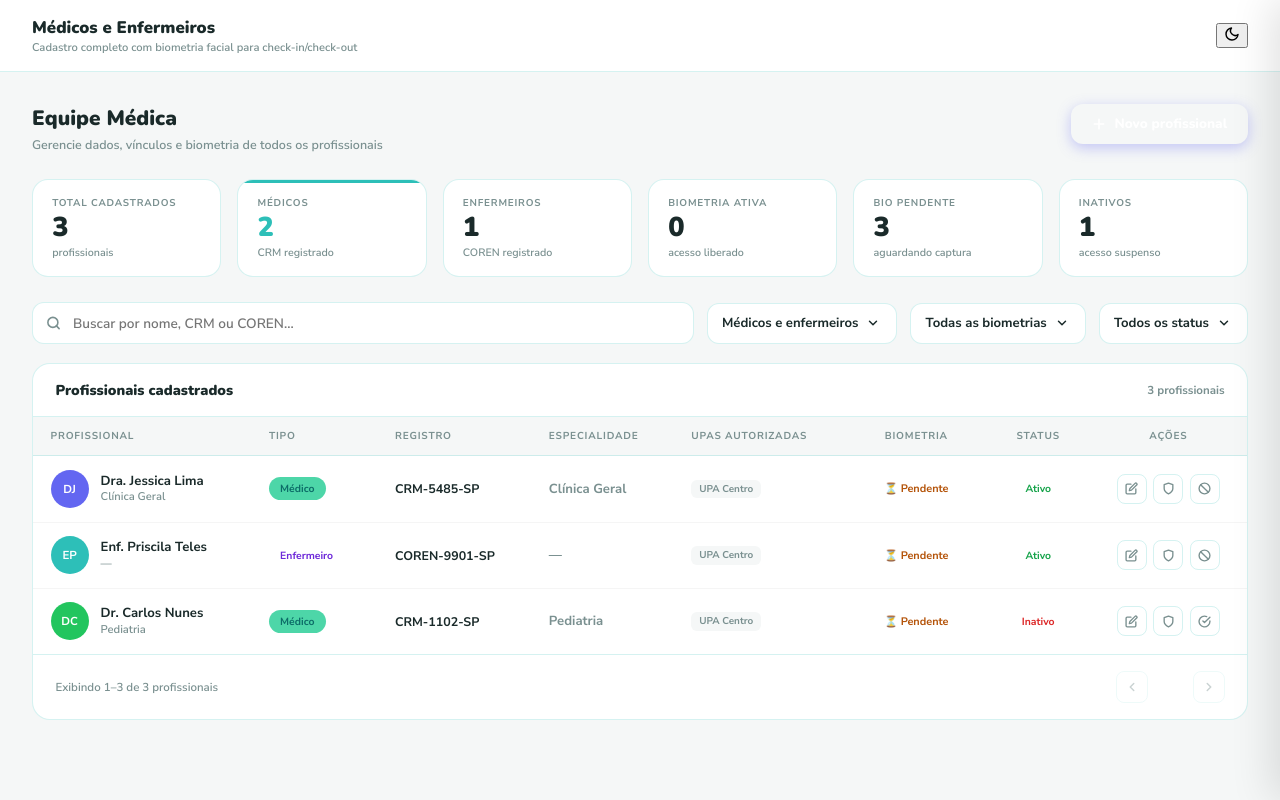
Test case: <AdminMedicos /> › filtro por tipo funciona
The image size is (1280, 800).
Expected: the text "Dra. Jessica Lima" is shown, x1=101 y1=474 x2=204 y2=489
# Click "Médicos e enfermeiros" dropdown e selecionar "Somente enfermeiros"
Click the button "Médicos e enfermeiros" at (802, 323), box x1=706 y1=303 x2=897 y2=344
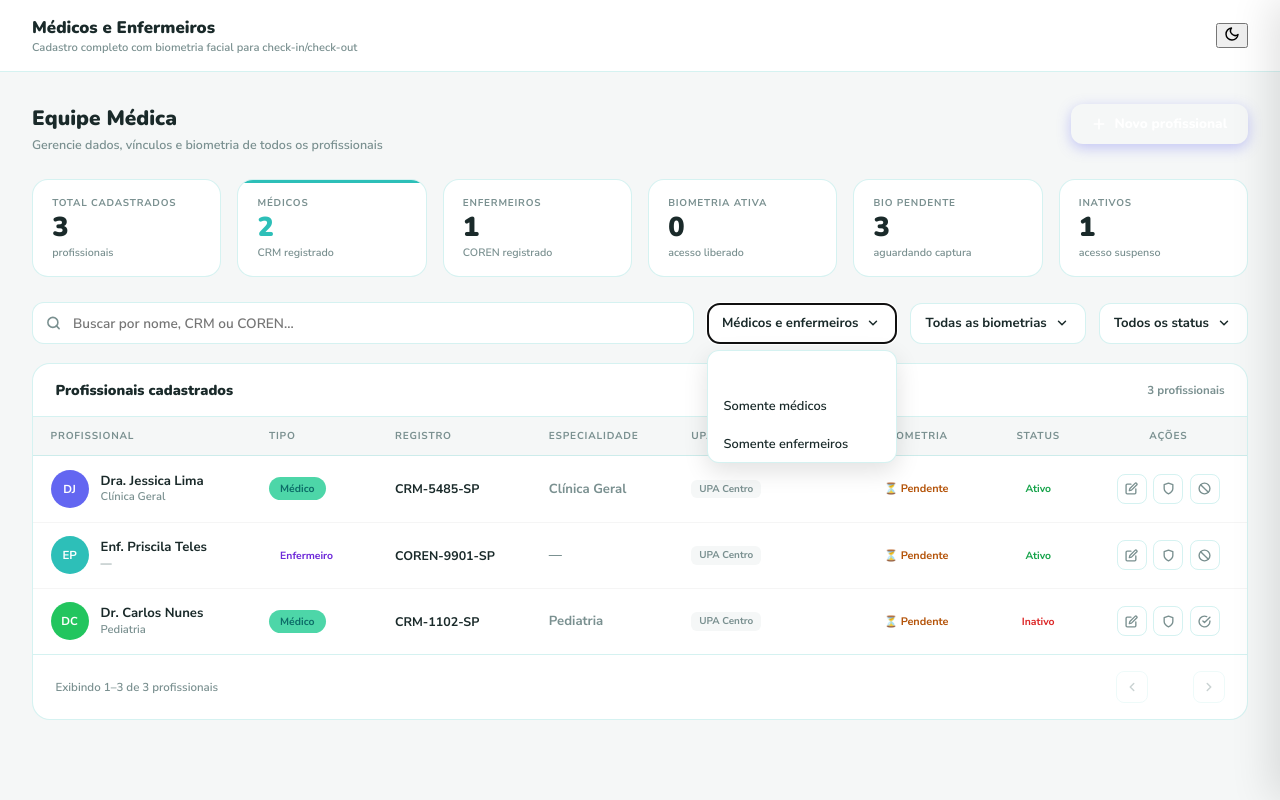
Click the text "Somente enfermeiros" at (786, 444), box x1=724 y1=435 x2=848 y2=453
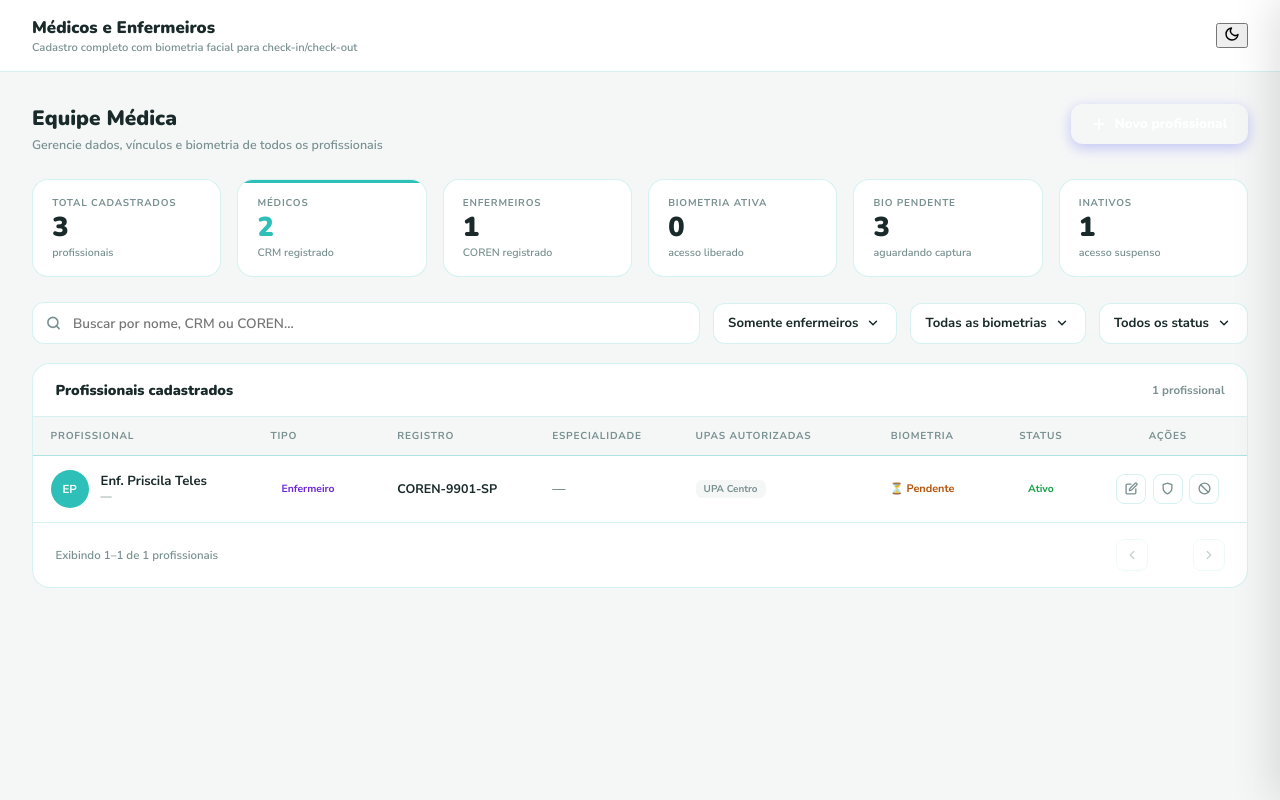
Expected: the text "Enf. Priscila Teles" is shown, x1=101 y1=474 x2=207 y2=489
Now the text "Dra. Jessica Lima" is gone
